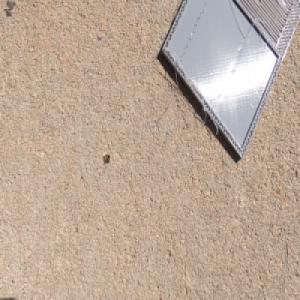PlasticPart: (161, 0, 300, 162)
